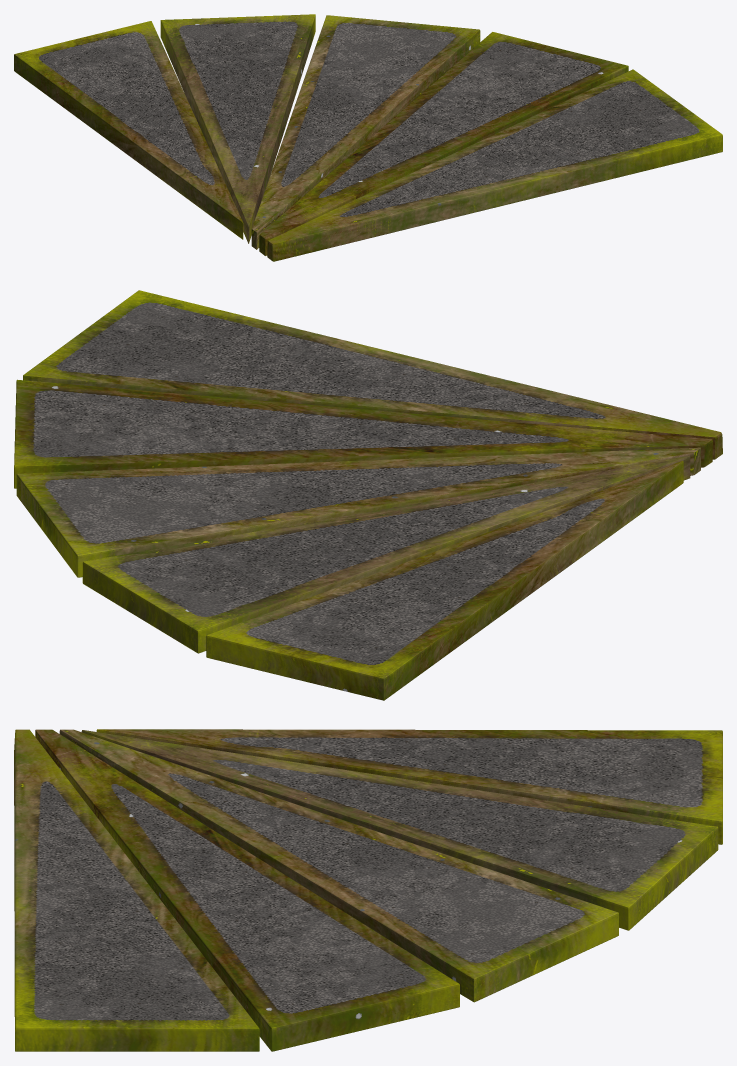
The model's file is PNW Pathway_Curve_90_L_Grip.glb.
3 renders of one model, top to bottom at view 1: azimuth 30°, elevation 25°; view 2: azimuth 150°, elevation 25°; view 3: azimuth 270°, elevation 25°, orthographic. The views are drawn at different scales.
Visible parts, largest first — view 1: Curve_90_L_Grip; view 2: Curve_90_L_Grip; view 3: Curve_90_L_Grip.
Part boxes in pixels (x1=…): Curve_90_L_Grip: x1=14, y1=14, x2=722, y2=261; Curve_90_L_Grip: x1=14, y1=290, x2=722, y2=700; Curve_90_L_Grip: x1=14, y1=729, x2=722, y2=1051.
Bounding box in the file's own units: 1.52 × 0.0577 × 1.52.
Materials: 1 (1 with a texture image).
